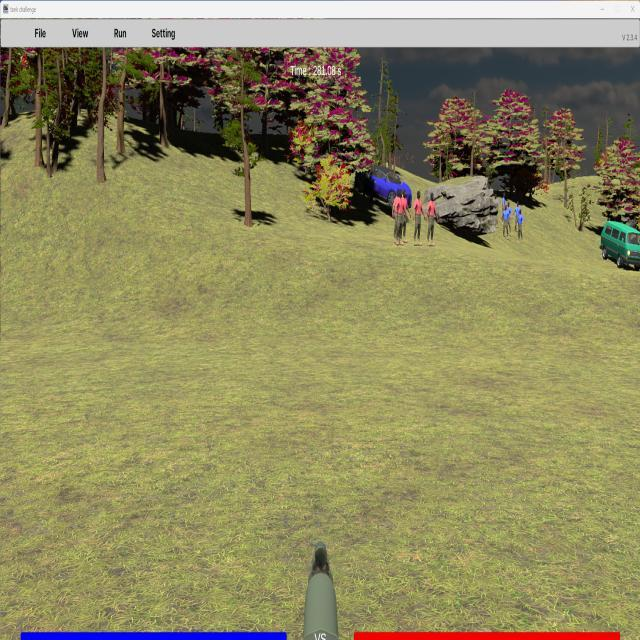Human: (395, 189, 410, 245), (392, 189, 406, 247), (413, 190, 426, 246), (426, 192, 439, 245)
car: (353, 165, 412, 208), (599, 220, 640, 271)
